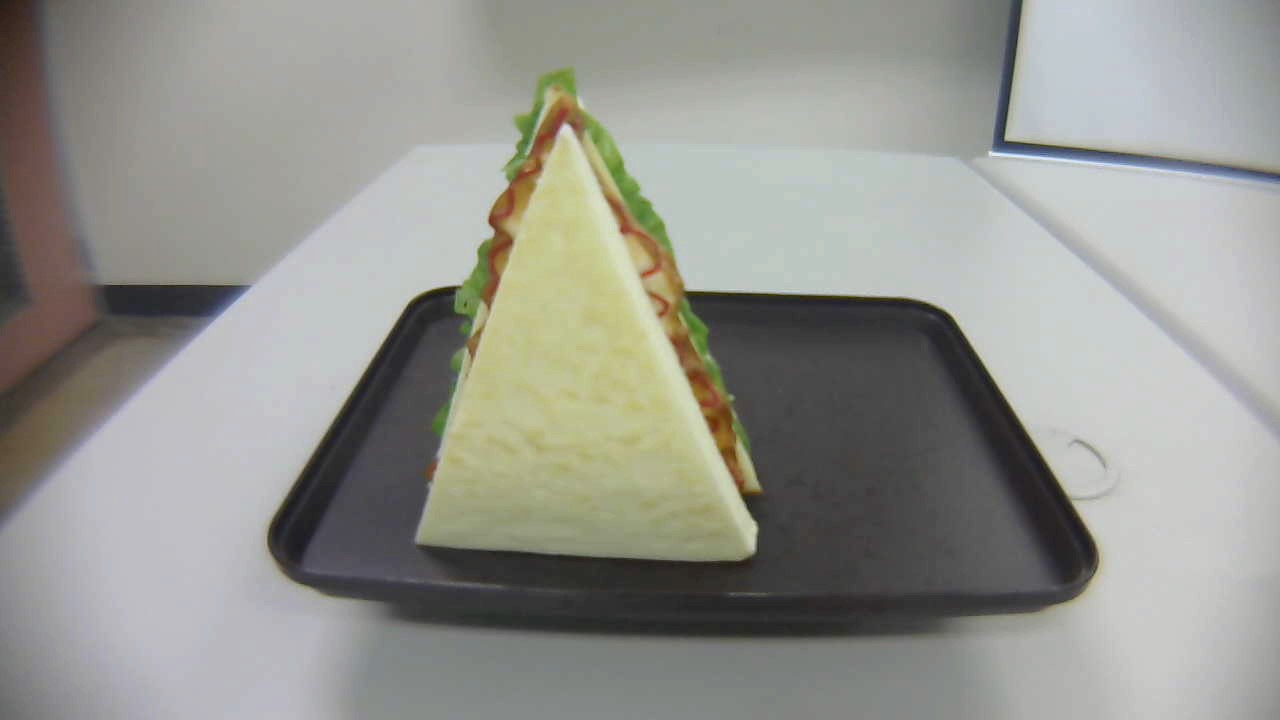sandwich: (414, 70, 763, 562)
